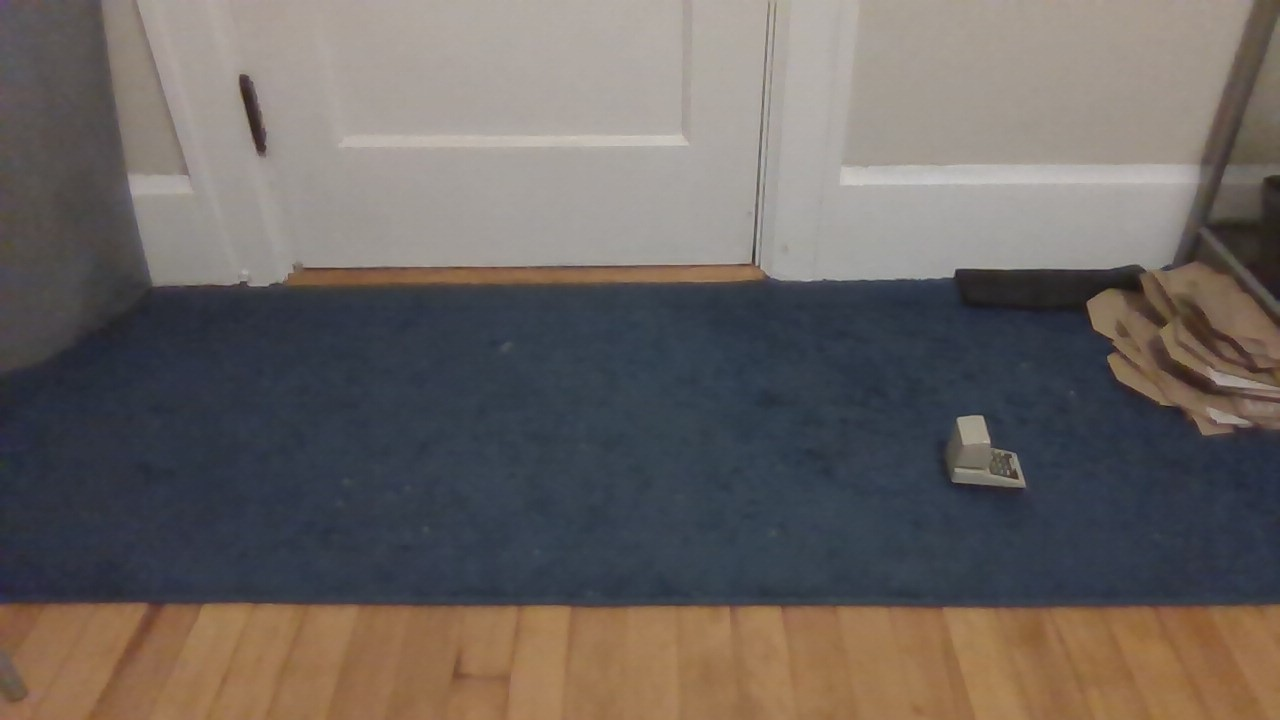Toy: (925, 405, 1042, 519)
